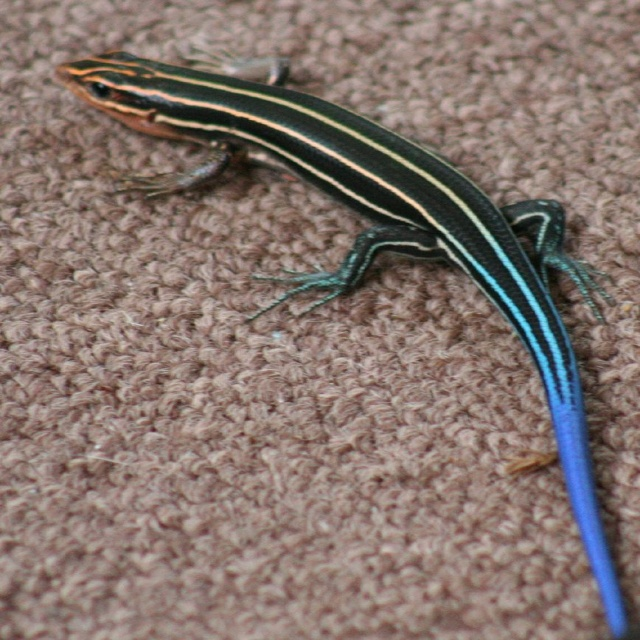Lizard: (46, 54, 606, 598)
